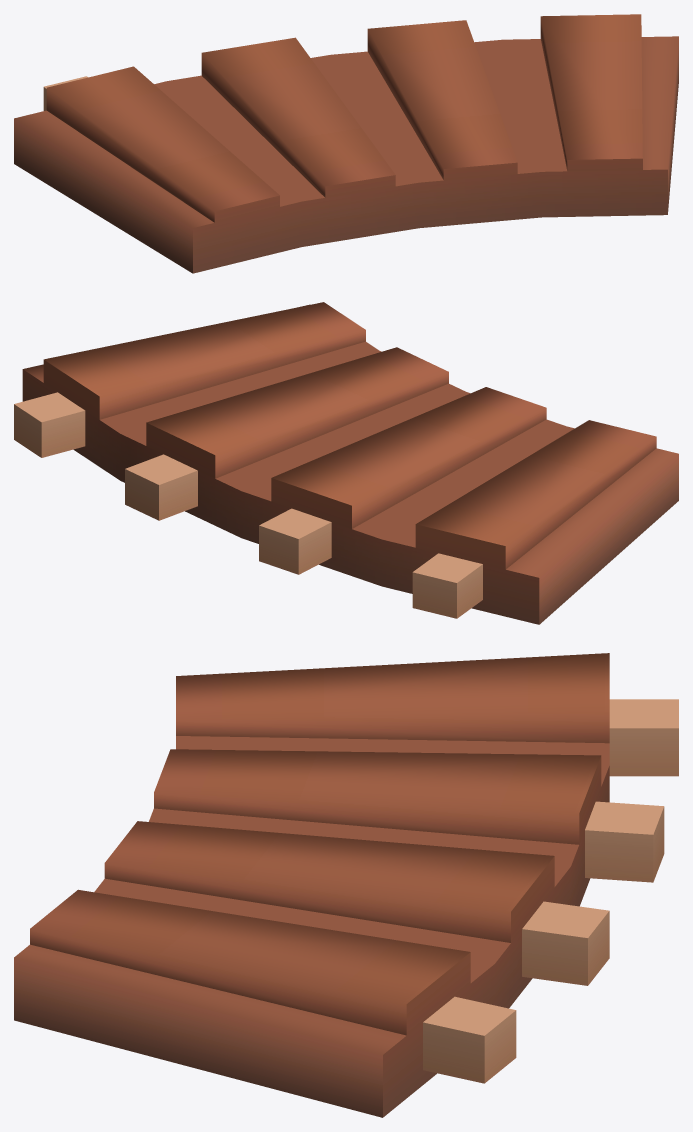
Rendered from meat-ribs.glb.
3 views of the same model, one above another, from view 1: azimuth 30°, elevation 25°; view 2: azimuth 150°, elevation 25°; view 3: azimuth 270°, elevation 25° (orthographic). The views are drawn at different scales.
Parts seen in each view (by area): view 1: meat-ribs; view 2: meat-ribs; view 3: meat-ribs.
Boxes of the visible parts, x1=… form: meat-ribs: x1=14, y1=14, x2=678, y2=273; meat-ribs: x1=14, y1=302, x2=678, y2=624; meat-ribs: x1=14, y1=653, x2=678, y2=1117.
Size of the model in its own units: 0.5354 by 0.06 by 0.3834.
1 material, 1 textured.
